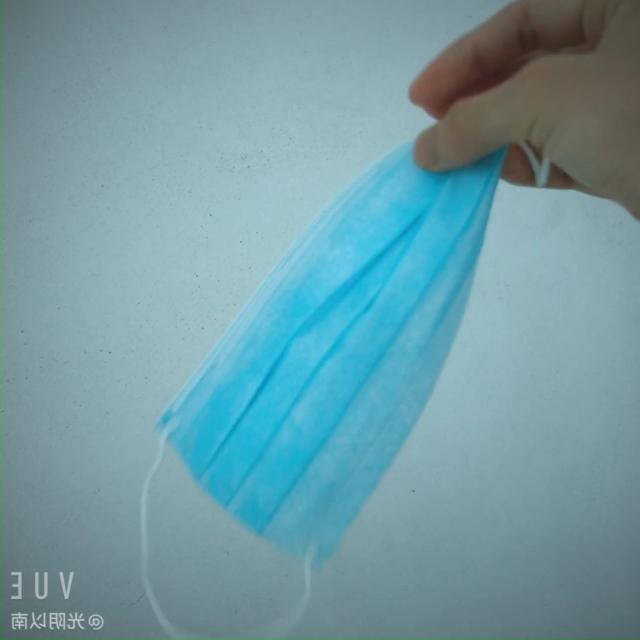face mask: (137, 104, 528, 530)
